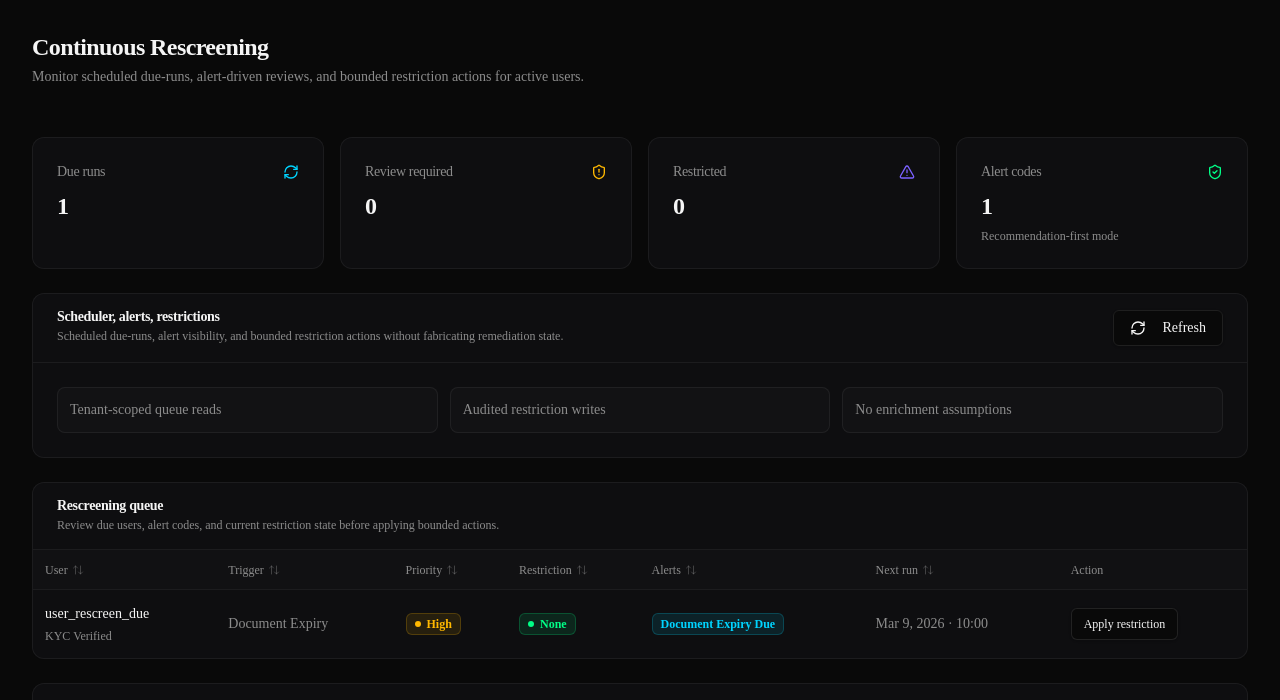
Test case: RescreeningPage › loads due runs and applies a restriction action
Check: the text "user_rescreen_due" is shown, box [45,606,149,621]
Check: the text "Document Expiry" is shown, box [228,616,328,631]
Click the button "Apply restriction": (1124, 624) [1071,608,1178,640]
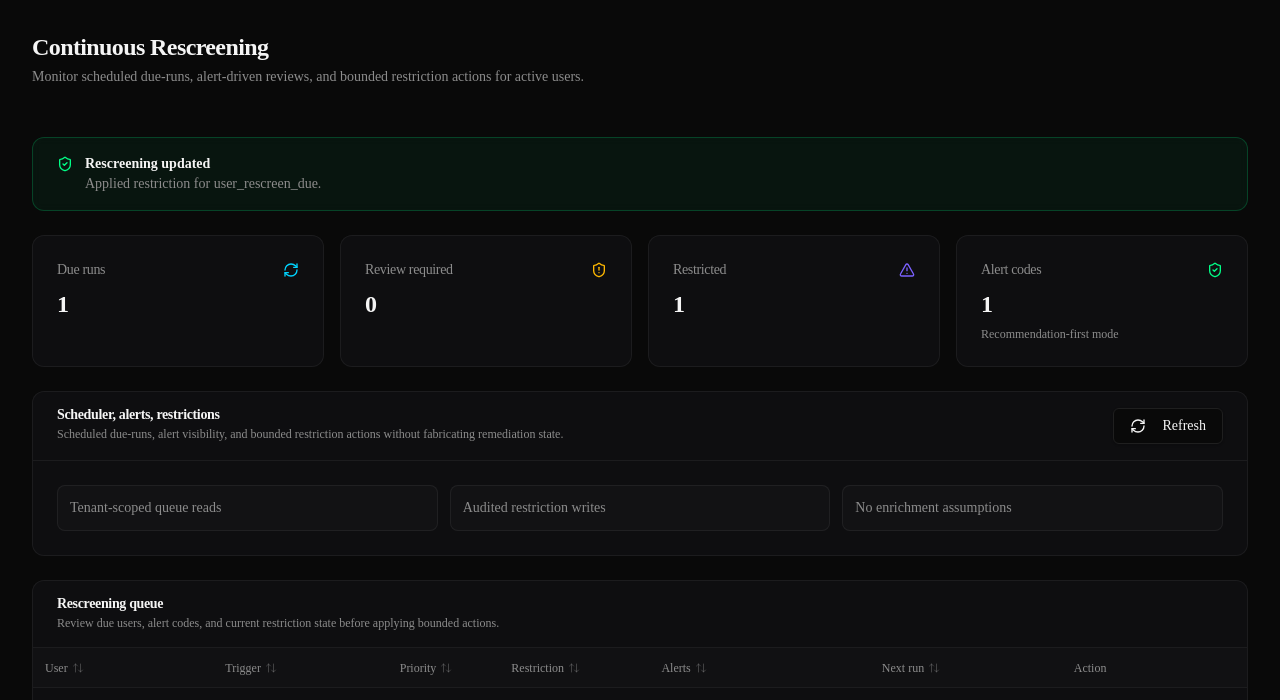
Check: the text "Applied restriction for user_rescreen_due." is shown, box [85,174,321,194]
